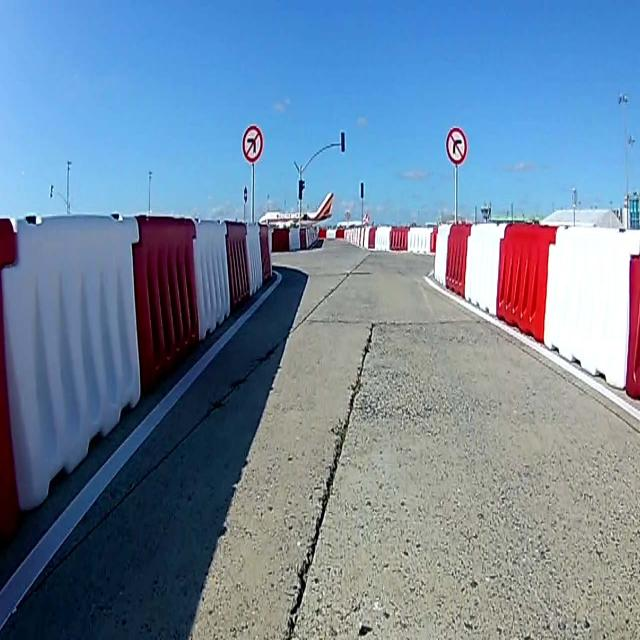sagadonulmez: (447, 127, 467, 165)
soladonulmez: (243, 126, 263, 162)
